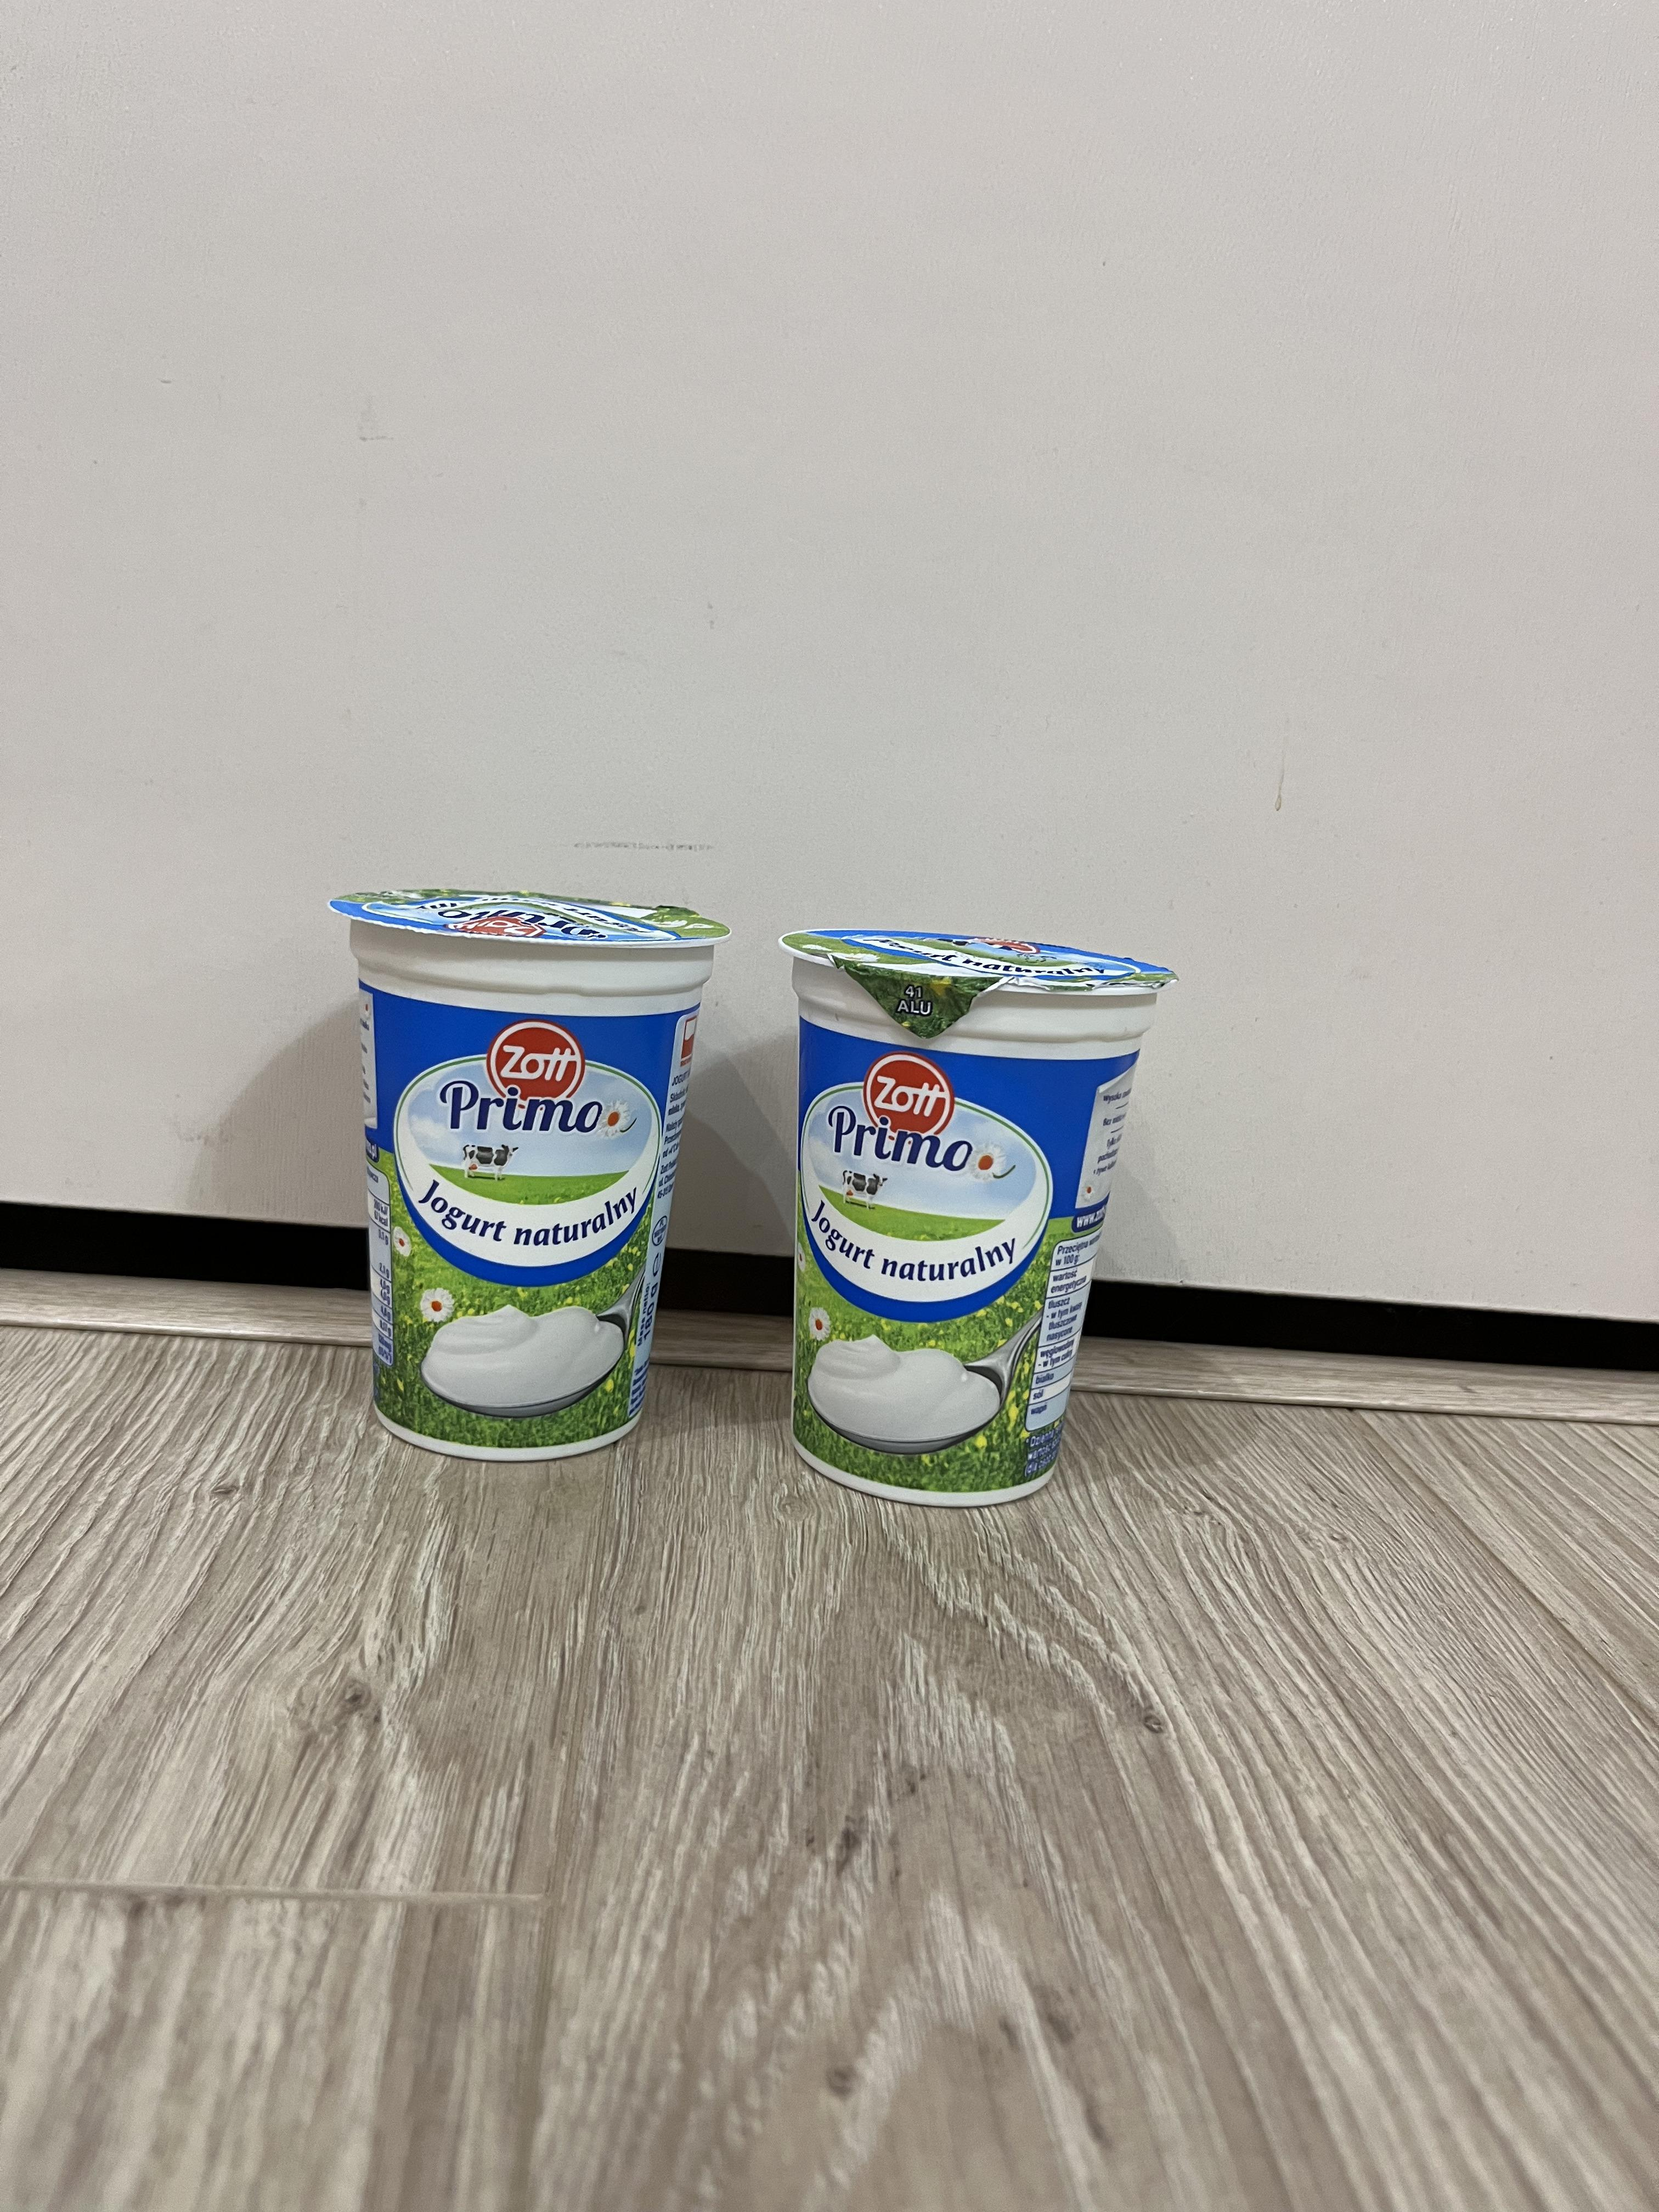Yogurt: (784, 930, 1145, 1503), (354, 880, 697, 1461)
